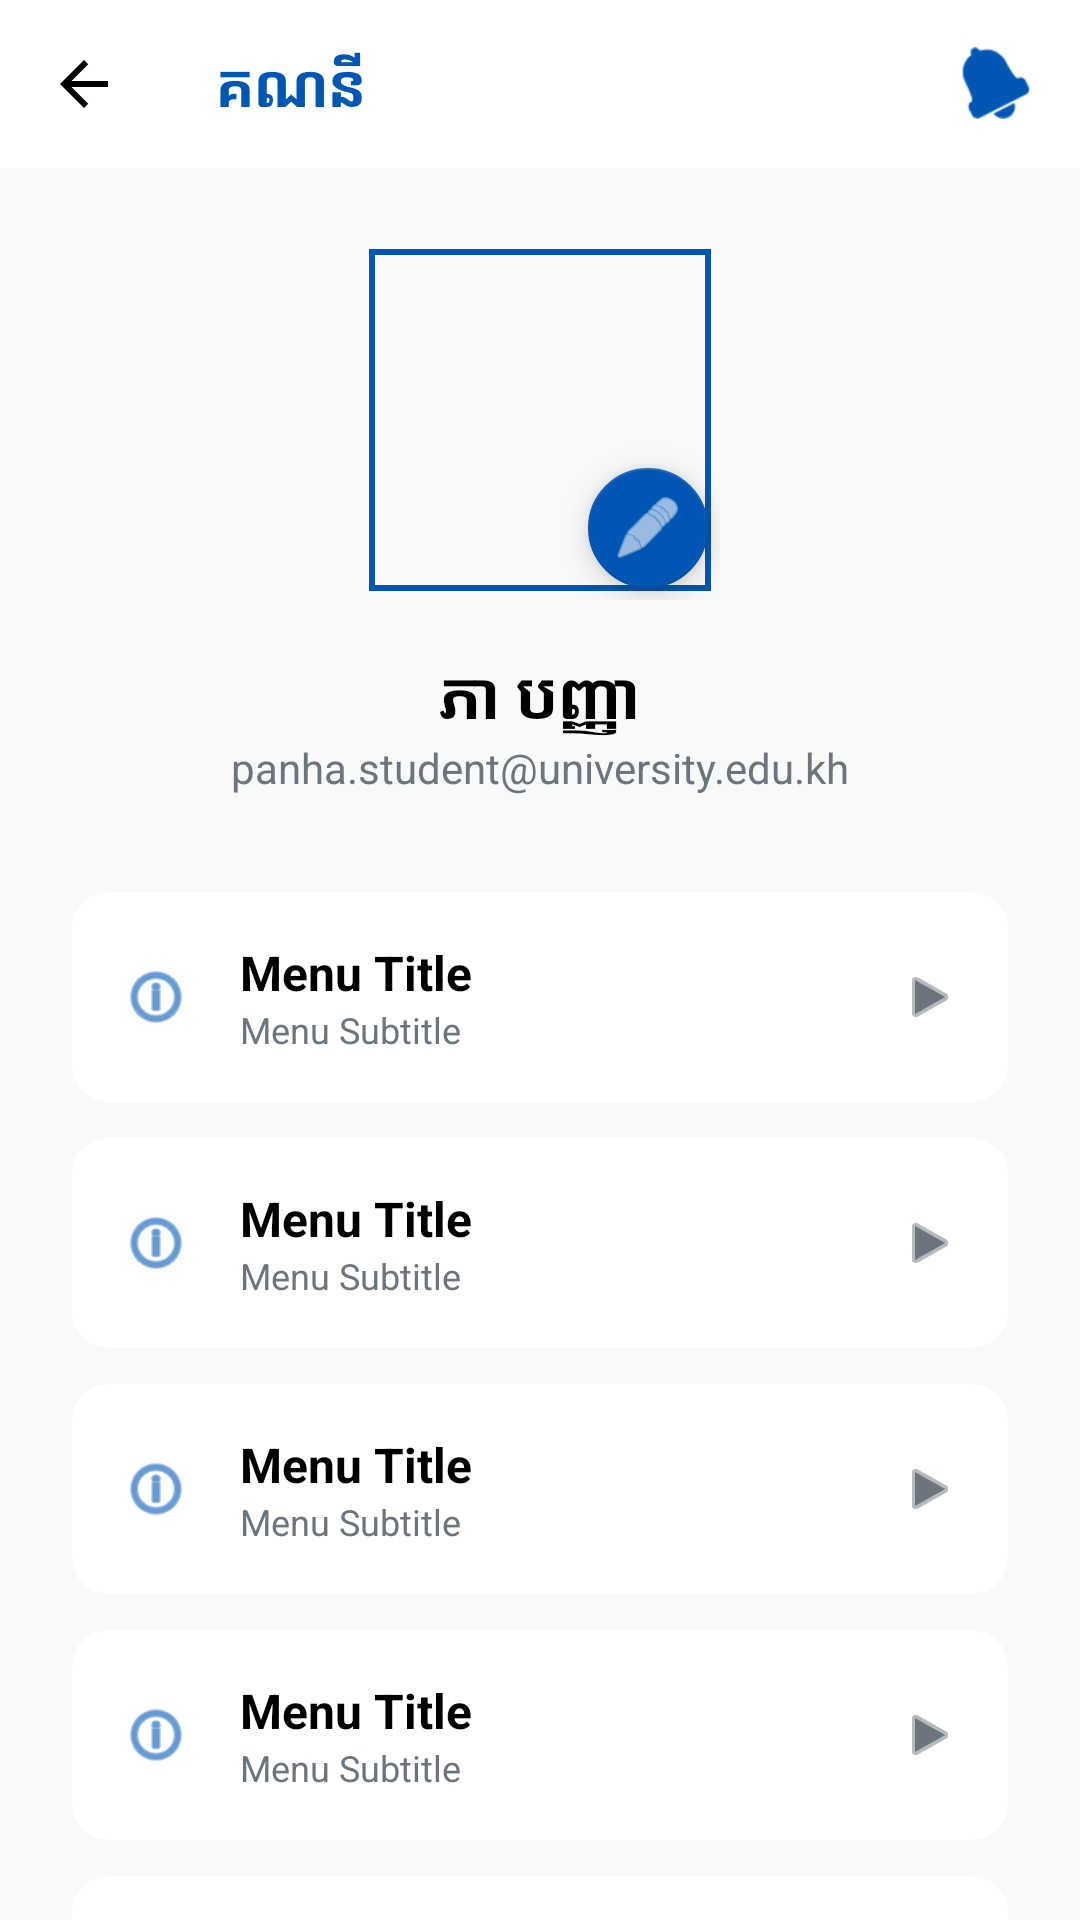

Screen size 1080px×1920px. Icon name, then its box in pixels as (x1, y1, x2, y2):
info details: (130, 971, 182, 1023), (130, 1217, 182, 1269), (130, 1463, 182, 1515), (130, 1709, 182, 1761)
play: (912, 977, 948, 1017), (912, 1223, 948, 1263), (912, 1469, 948, 1509), (912, 1715, 948, 1755)
ការជូនដំណឹង: (962, 47, 1030, 119)
កែប្រែព័ត៌មានផ្ទាល់ខ្លួន: (576, 456, 711, 591)
